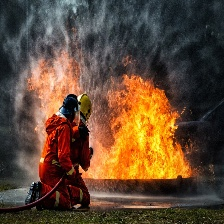fire: (94, 79, 191, 180), (24, 57, 82, 123)
